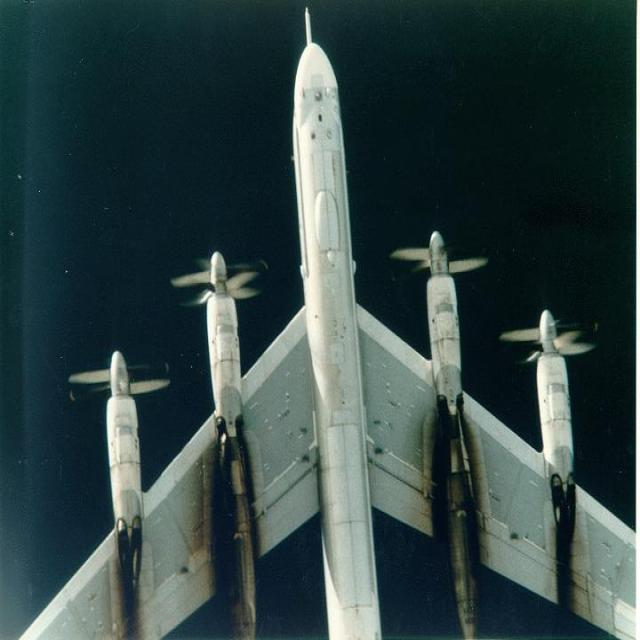MIL_Plane: (17, 5, 636, 640)
